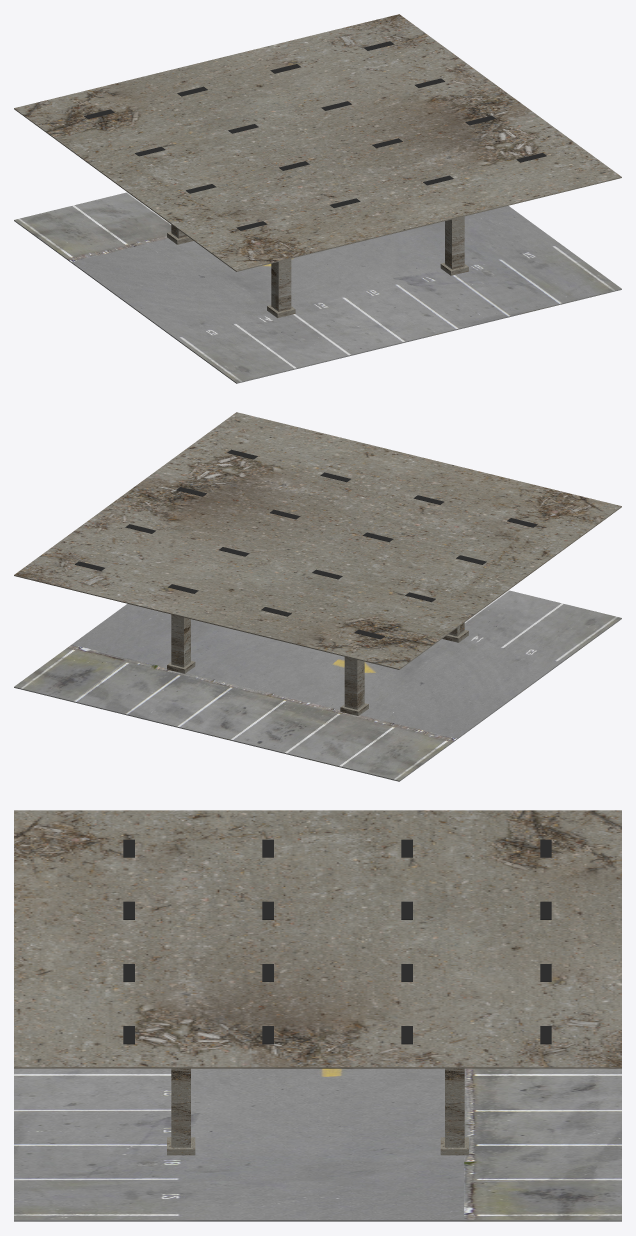
The model's file is Parking Garage2.obj.
The picture shows the model from 3 angles, top to bottom: view 1: azimuth 30°, elevation 25°; view 2: azimuth 150°, elevation 25°; view 3: azimuth 270°, elevation 25°; orthographic projection. The views are drawn at different scales.
Parts seen in each view (by area): view 1: Cube.005, Cube, Cube.006, Cube.004, Cube.003; view 2: Cube.005, Cube, Cube.006, Cube.002, Cube.001; view 3: Cube.005, Cube, Cube.006, Cube.001, Cube.003.
Part boxes in pixels (<box>): Cube.005: <box>14,14,621,271</box>; Cube: <box>14,192,621,383</box>; Cube.006: <box>84,41,546,230</box>; Cube.004: <box>267,259,295,317</box>; Cube.003: <box>440,216,468,275</box>; Cube.005: <box>14,412,621,669</box>; Cube: <box>14,590,621,781</box>; Cube.006: <box>75,449,537,639</box>; Cube.002: <box>340,657,368,715</box>; Cube.001: <box>167,614,195,673</box>; Cube.005: <box>14,810,621,1068</box>; Cube: <box>14,1068,621,1221</box>; Cube.006: <box>123,839,551,1044</box>; Cube.001: <box>440,1068,468,1155</box>; Cube.003: <box>167,1068,195,1155</box>.
Size of the model in its own units: 200 by 56.06 by 200.
Materials: 4 (2 with a texture image).
